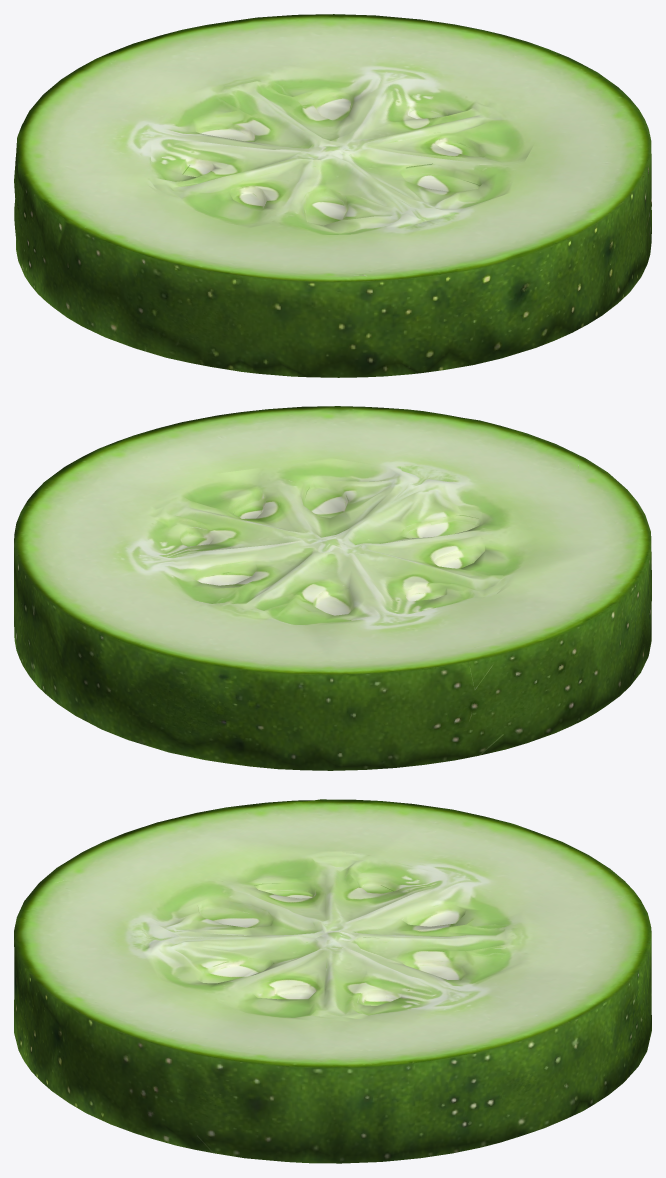
Rendered from cucumber.glb.
3 renders of one model, top to bottom at view 1: azimuth 30°, elevation 25°; view 2: azimuth 150°, elevation 25°; view 3: azimuth 270°, elevation 25°, orthographic.
Parts seen in each view (by area): view 1: Mesh10; view 2: Mesh10; view 3: Mesh10.
Boxes of the visible parts, x1,y1,x2,y2 form: Mesh10: (14,14,651,377); Mesh10: (14,406,651,770); Mesh10: (14,799,651,1163).
Size of the model in its own units: 1.91 by 0.3167 by 1.91.
Materials: 1 (1 with a texture image).
